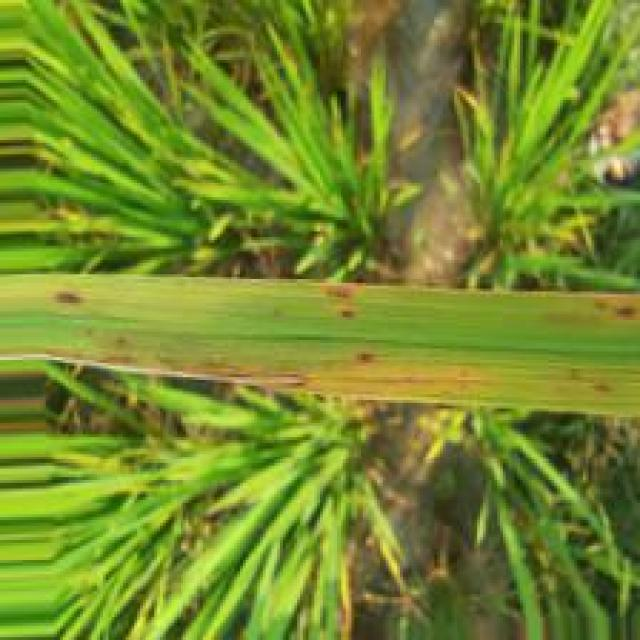Brown_Spot: (175, 364, 318, 390), (321, 283, 363, 320), (87, 352, 143, 370), (51, 287, 92, 307), (611, 301, 639, 323), (354, 350, 378, 367), (110, 334, 135, 349), (593, 382, 617, 395)
